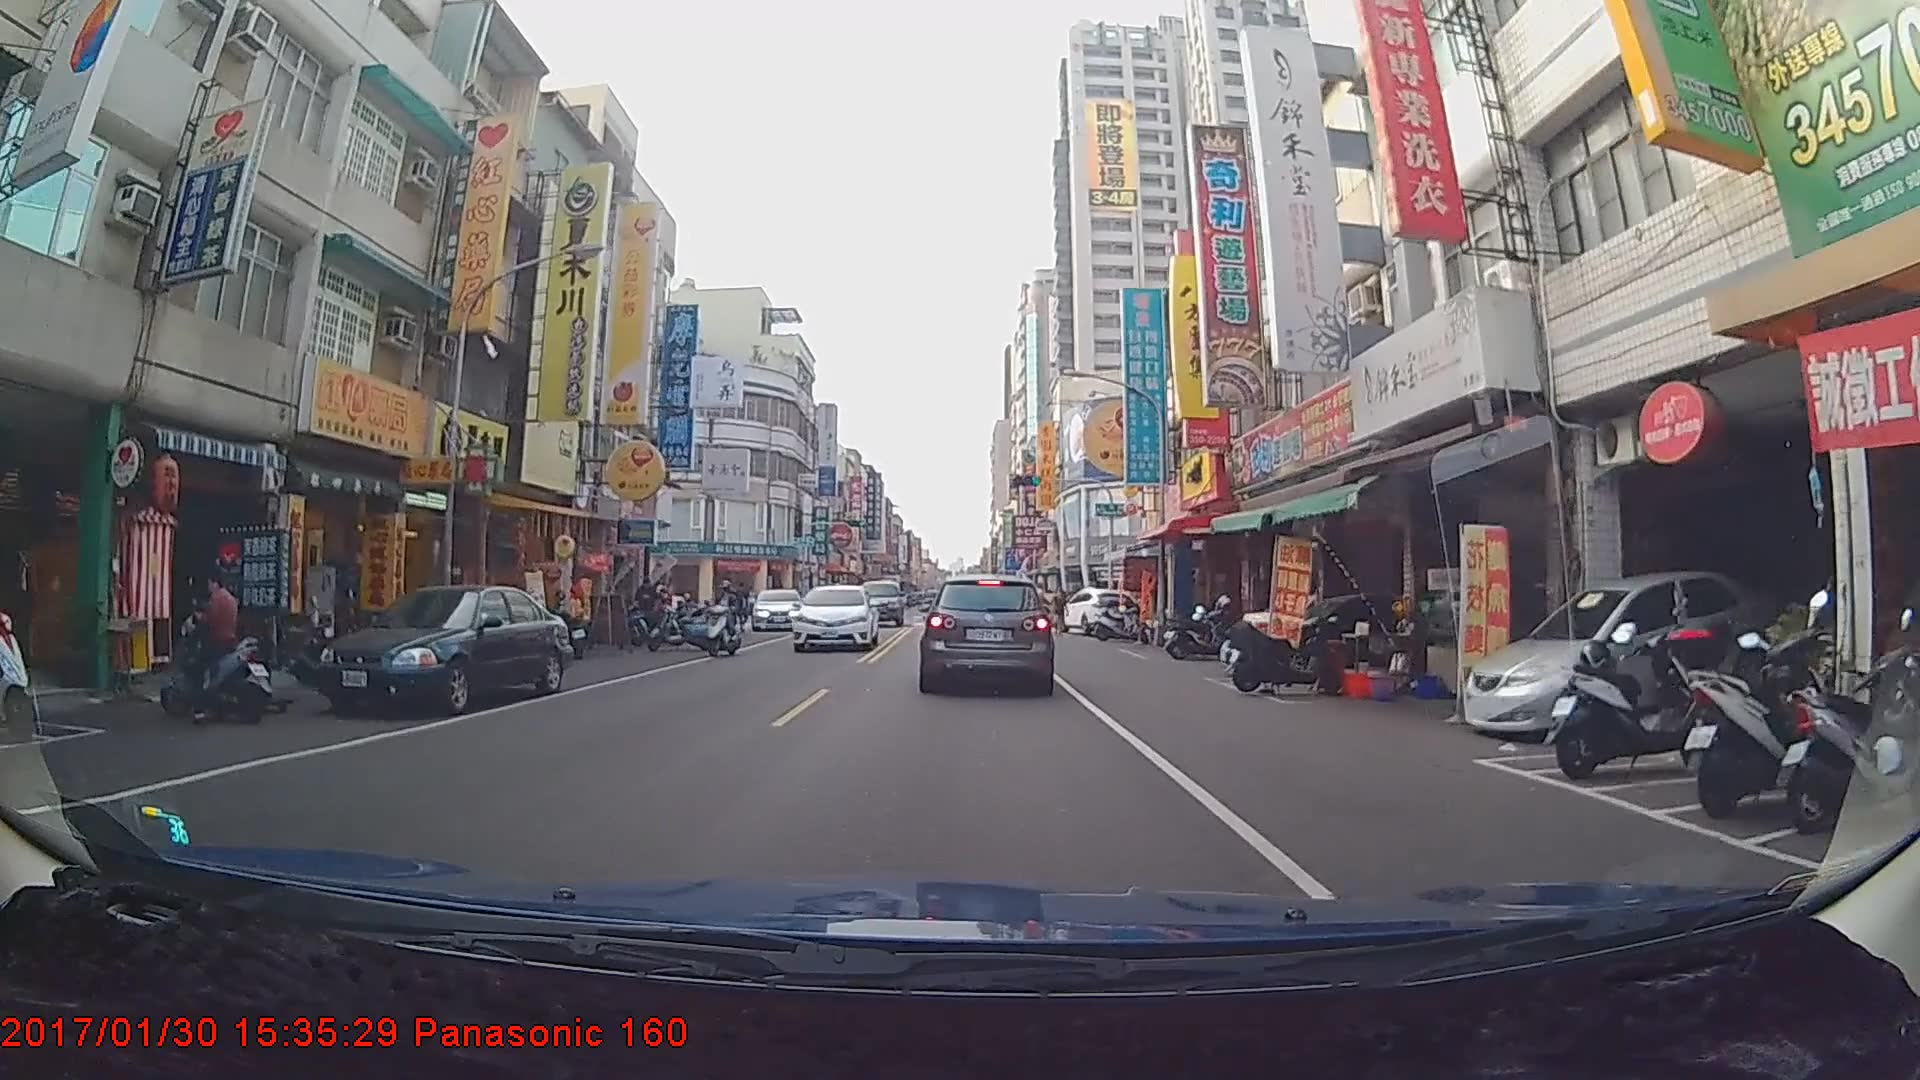pedestrian: (1050, 587, 1070, 637)
rider: (162, 563, 280, 728), (700, 582, 750, 661)
vehicle: (313, 583, 571, 712), (922, 571, 1052, 693), (790, 576, 876, 647), (1057, 583, 1144, 635), (853, 576, 904, 625), (751, 587, 803, 631)
